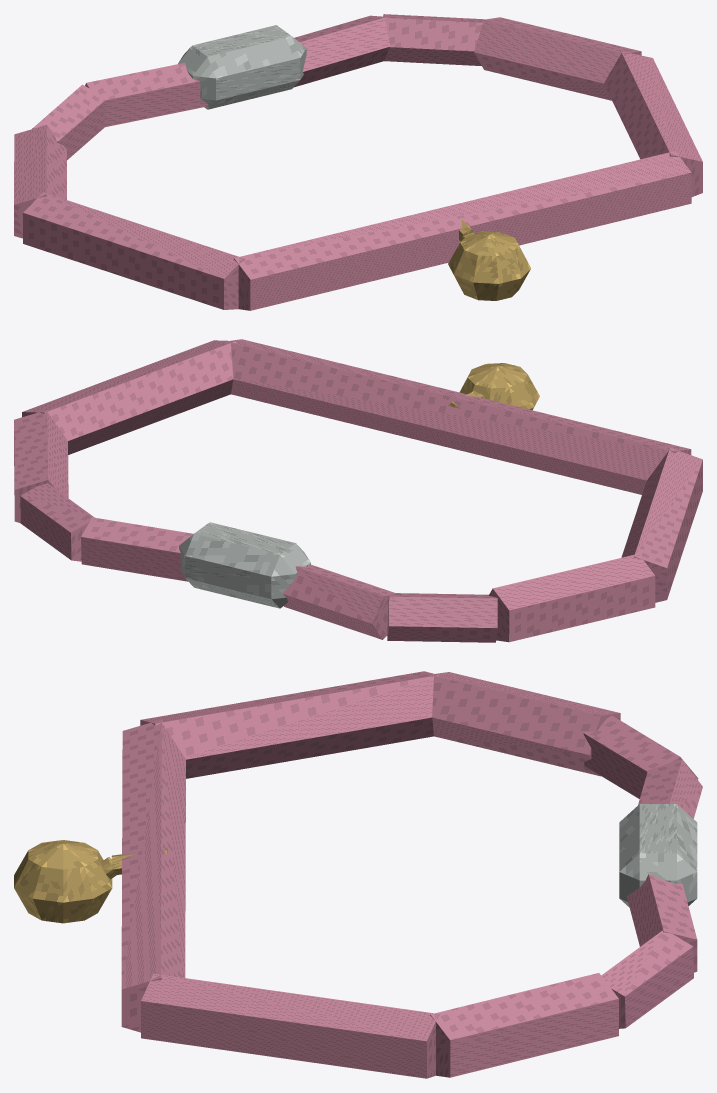
File: faux_fur_collar.glb
3 renders of one model, top to bottom at view 1: azimuth 30°, elevation 25°; view 2: azimuth 150°, elevation 25°; view 3: azimuth 270°, elevation 25°, orthographic. The views are drawn at different scales.
Parts seen in each view (by area): view 1: block_looped strap 2, block_looped strap 1, block_strap end 1 (×2), block_looped strap 4, block_strap keeper, block_strap end 0 (×2), block_looped strap 3, block_small hanging bell, block_looped strap 0; view 2: block_looped strap 2, block_looped strap 3, block_strap end 1 (×2), block_looped strap 0, block_strap end 0 (×2), block_strap keeper, block_looped strap 1, block_looped strap 4, block_small hanging bell; view 3: block_looped strap 3, block_looped strap 1, block_looped strap 2, block_looped strap 4, block_looped strap 0, block_strap end 0 (×2), block_small hanging bell, block_strap keeper, block_strap end 1 (×2).
Boxes of the visible parts, x1=… form: block_looped strap 2: x1=233, y1=151, x2=691, y2=310; block_looped strap 1: x1=23, y1=192, x2=244, y2=309; block_strap end 1 (×2): x1=85, y1=15, x2=390, y2=127; block_looped strap 4: x1=474, y1=17, x2=641, y2=100; block_strap keeper: x1=178, y1=25, x2=306, y2=109; block_strap end 0 (×2): x1=32, y1=14, x2=484, y2=159; block_looped strap 3: x1=604, y1=51, x2=702, y2=196; block_small hanging bell: x1=448, y1=231, x2=530, y2=300; block_looped strap 0: x1=14, y1=125, x2=66, y2=238; block_looped strap 2: x1=224, y1=339, x2=691, y2=494; block_looped strap 3: x1=22, y1=340, x2=236, y2=454; block_strap end 1 (×2): x1=81, y1=517, x2=395, y2=639; block_looped strap 0: x1=489, y1=553, x2=655, y2=642; block_strap end 0 (×2): x1=20, y1=483, x2=497, y2=642; block_strap keeper: x1=179, y1=522, x2=310, y2=608; block_looped strap 1: x1=621, y1=448, x2=702, y2=602; block_looped strap 4: x1=14, y1=410, x2=68, y2=523; block_small hanging bell: x1=459, y1=363, x2=539, y2=410; block_looped strap 3: x1=141, y1=973, x2=439, y2=1078; block_looped strap 1: x1=140, y1=671, x2=438, y2=778; block_looped strap 2: x1=121, y1=719, x2=185, y2=1032; block_looped strap 4: x1=430, y1=973, x2=618, y2=1077; block_looped strap 0: x1=429, y1=672, x2=620, y2=776; block_strap end 0 (×2): x1=583, y1=715, x2=698, y2=1028; block_small hanging bell: x1=14, y1=840, x2=112, y2=923; block_strap keeper: x1=619, y1=804, x2=697, y2=907; block_strap end 1 (×2): x1=626, y1=759, x2=702, y2=972.
Size of the model in its own units: 0.1323 by 0.0152 by 0.1041.
Materials: 1 (1 with a texture image).
